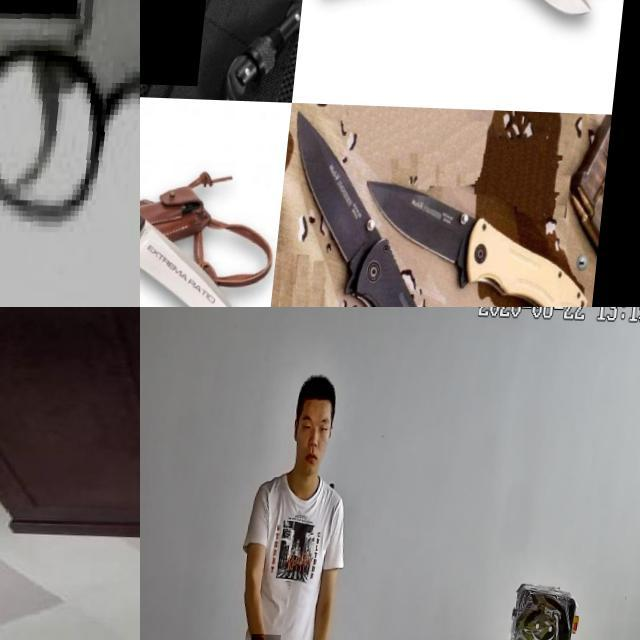-: (288, 106, 406, 294), (363, 172, 497, 286), (140, 207, 265, 307), (140, 0, 247, 99), (463, 0, 610, 59)
gun-knife-thesis - v11 Yolov5 augmented: (0, 0, 140, 307)
